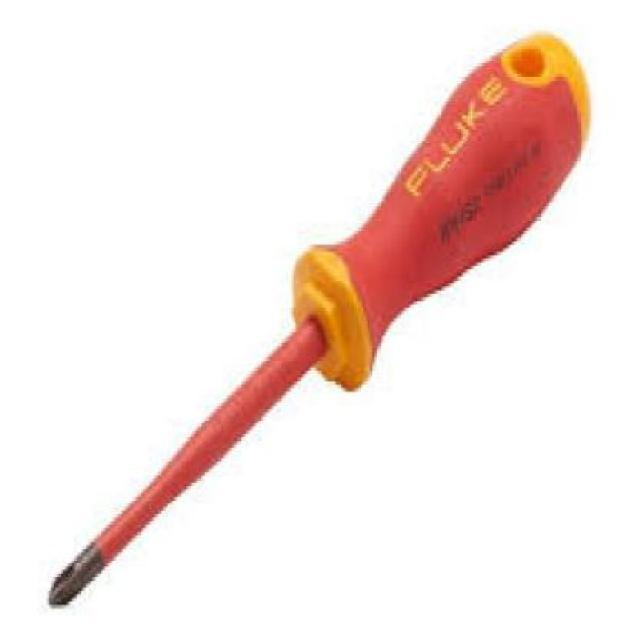screwdriver: (47, 31, 601, 608)
